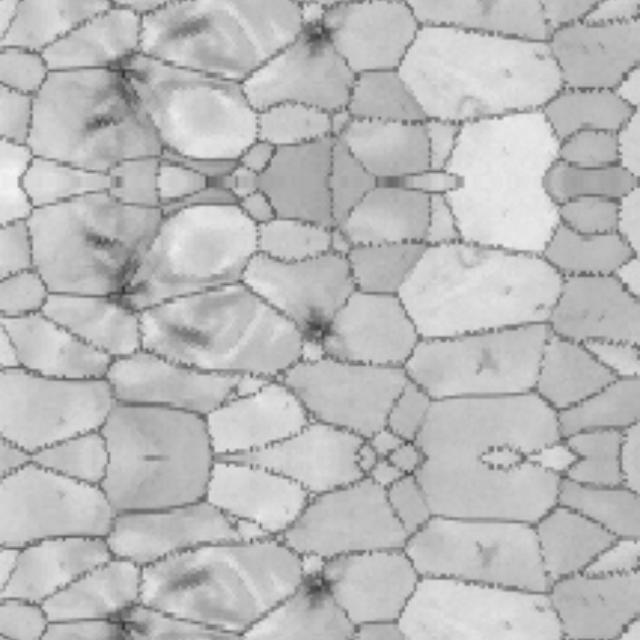good_void: (82, 44, 166, 135), (82, 230, 166, 320), (292, 300, 339, 357), (292, 561, 339, 618), (292, 7, 339, 64), (102, 598, 159, 640), (163, 326, 208, 349), (163, 569, 208, 592), (163, 16, 208, 39), (473, 346, 499, 376), (473, 542, 499, 572), (476, 0, 498, 19), (502, 286, 517, 298), (502, 620, 517, 632), (502, 66, 517, 78), (533, 302, 545, 311), (533, 607, 545, 616), (533, 54, 545, 62)
